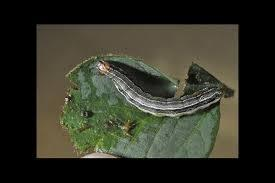fallarmy_worm: (89, 59, 230, 117)
